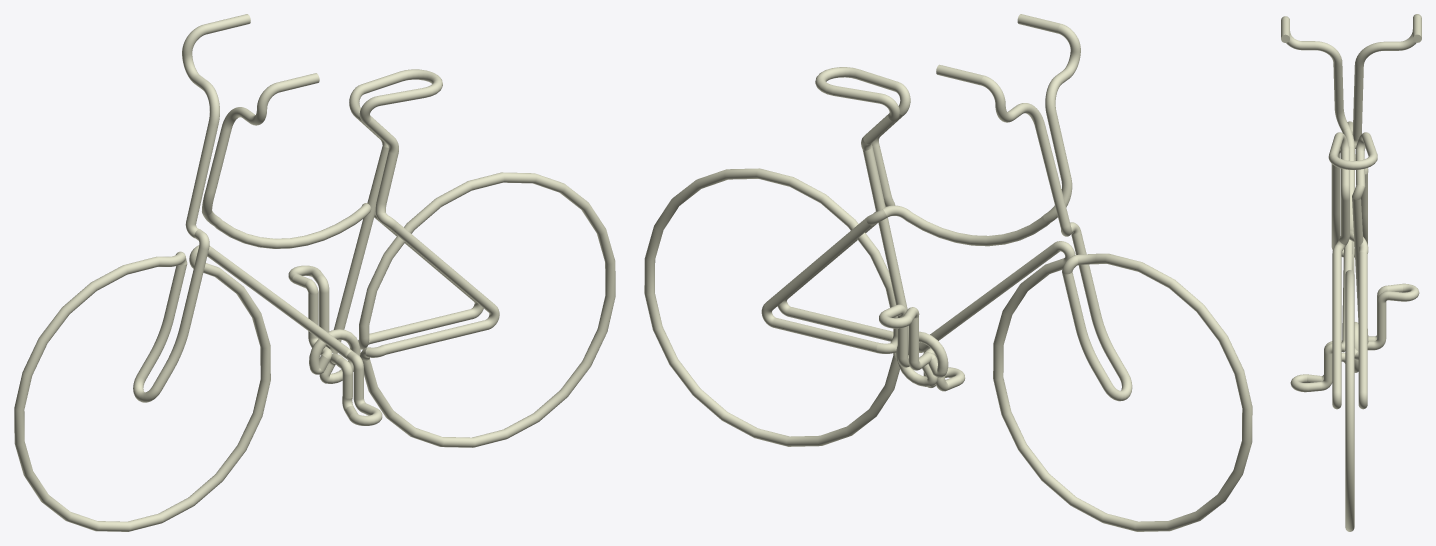
Rendered from airplane.dae.
3 renders of one model, left to right at view 1: azimuth 30°, elevation 25°; view 2: azimuth 150°, elevation 25°; view 3: azimuth 270°, elevation 25°, orthographic. The views are drawn at different scales.
Visible parts, largest first — view 1: SketchUp; view 2: SketchUp; view 3: SketchUp.
Part boxes in pixels (left/top/right/bottom): SketchUp: left=14, top=14, right=615, bottom=531; SketchUp: left=644, top=14, right=1252, bottom=531; SketchUp: left=1281, top=14, right=1421, bottom=531.
Size of what is drawn, in the model's own units: 106 by 24.38 by 75.94.
